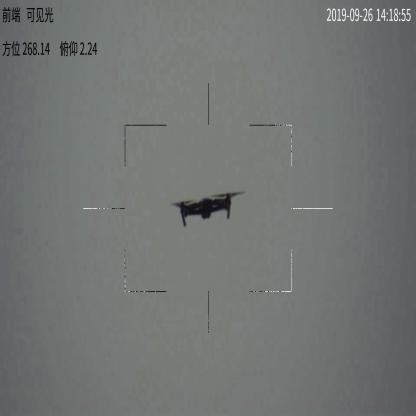uav: (169, 189, 242, 229)
